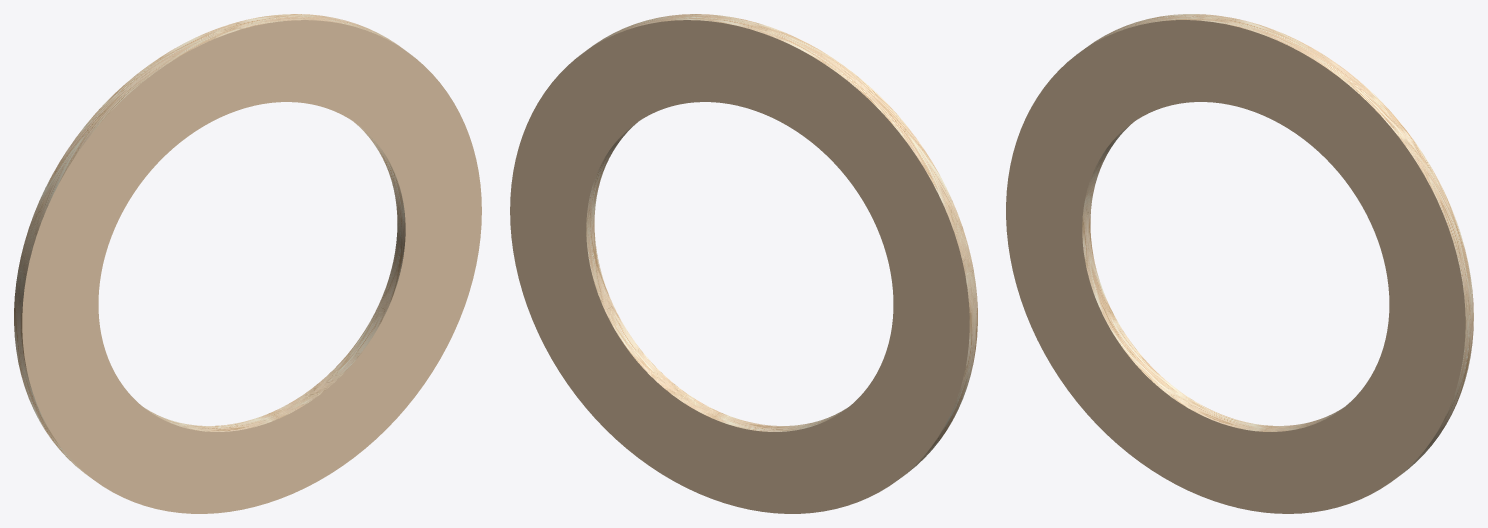
File: fwd_centering_ring.obj
The picture shows the model from 3 angles, left to right: view 1: azimuth 30°, elevation 25°; view 2: azimuth 150°, elevation 25°; view 3: azimuth 330°, elevation 25°; orthographic projection.
Parts seen in each view (by area): view 1: 3_FWD Centering Ring (MUTD); view 2: 3_FWD Centering Ring (MUTD); view 3: 3_FWD Centering Ring (MUTD).
Boxes of the visible parts, x1,y1,x2,y2 form: 3_FWD Centering Ring (MUTD): (14,14,481,513); 3_FWD Centering Ring (MUTD): (510,14,977,513); 3_FWD Centering Ring (MUTD): (1006,14,1473,513).
Size of the model in its own units: 3.05 by 3.05 by 0.0953.
1 material, 1 textured.
